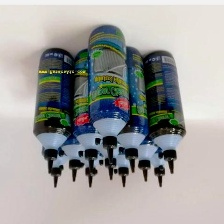cleaning_solution: (83, 23, 133, 167), (141, 47, 188, 177), (31, 44, 77, 176), (67, 43, 110, 175), (114, 42, 149, 175), (56, 70, 92, 185), (128, 72, 162, 183), (38, 100, 74, 189), (93, 92, 125, 183), (111, 101, 141, 189), (145, 104, 176, 188), (76, 112, 103, 188)
